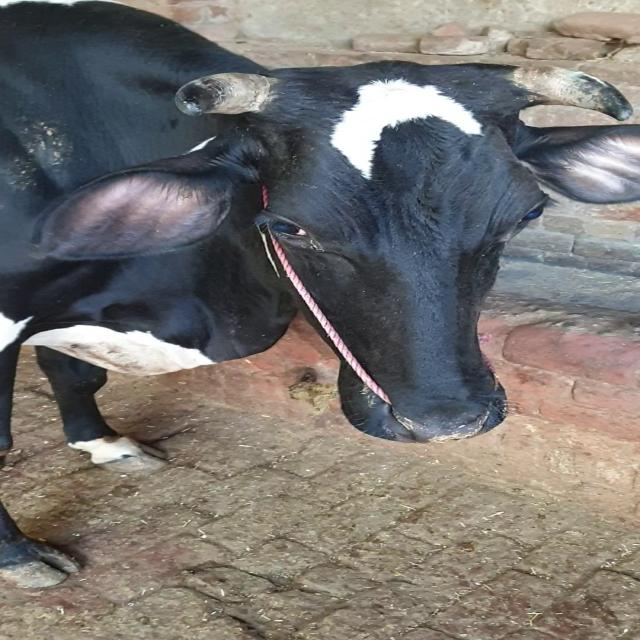cowFace: (236, 48, 558, 454)
